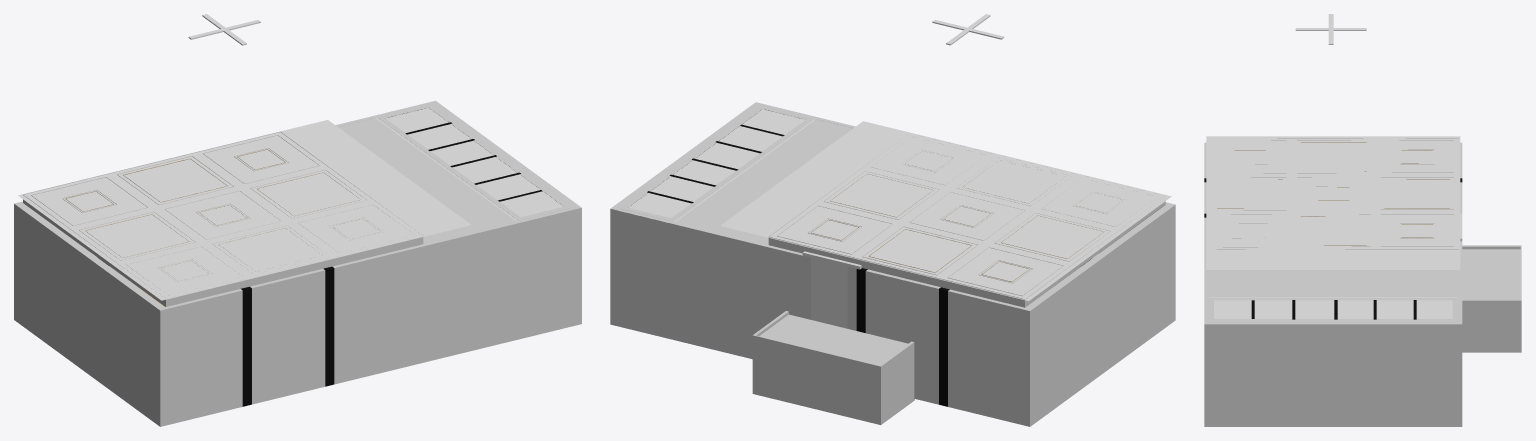
File: pameran2.fbx
3 views of the same model, side by side, from view 1: azimuth 30°, elevation 25°; view 2: azimuth 150°, elevation 25°; view 3: azimuth 270°, elevation 25° (orthographic). The views are drawn at different scales.
Parts seen in each view (by area): view 1: Room, Plane.005, Plane.002, Cube.006, ATAP, Plane; view 2: Room, Plane.005, Cube.004, Plane.002, Cube.006, ATAP, Cube.005, Room.001, Plane; view 3: Plane.005, Room, Cube.006, Plane.002, Cube.004, Cube.005, Plane, ATAP.
Part boxes in pixels (x1=…): Room: x1=14, y1=100, x2=581, y2=426; Plane.005: x1=18, y1=120, x2=470, y2=300; Plane.002: x1=376, y1=107, x2=563, y2=221; Cube.006: x1=338, y1=118, x2=515, y2=243; ATAP: x1=23, y1=131, x2=423, y2=306; Plane: x1=377, y1=104, x2=571, y2=220; Room: x1=610, y1=102, x2=1175, y2=426; Plane.005: x1=720, y1=121, x2=1171, y2=301; Cube.004: x1=752, y1=311, x2=914, y2=424; Plane.002: x1=628, y1=109, x2=815, y2=221; Cube.006: x1=676, y1=119, x2=852, y2=244; ATAP: x1=768, y1=155, x2=1165, y2=307; Cube.005: x1=759, y1=314, x2=907, y2=365; Room.001: x1=802, y1=251, x2=861, y2=328; Plane: x1=620, y1=105, x2=813, y2=221; Plane.005: x1=1206, y1=136, x2=1460, y2=269; Room: x1=1204, y1=142, x2=1462, y2=426; Cube.006: x1=1208, y1=270, x2=1457, y2=297; Plane.002: x1=1208, y1=297, x2=1457, y2=318; Cube.004: x1=1462, y1=245, x2=1521, y2=352; Cube.005: x1=1462, y1=249, x2=1520, y2=299; Plane: x1=1208, y1=298, x2=1457, y2=321; ATAP: x1=1217, y1=138, x2=1458, y2=249.
Bounding box in the file's own units: 1722 × 1244 × 1272.
